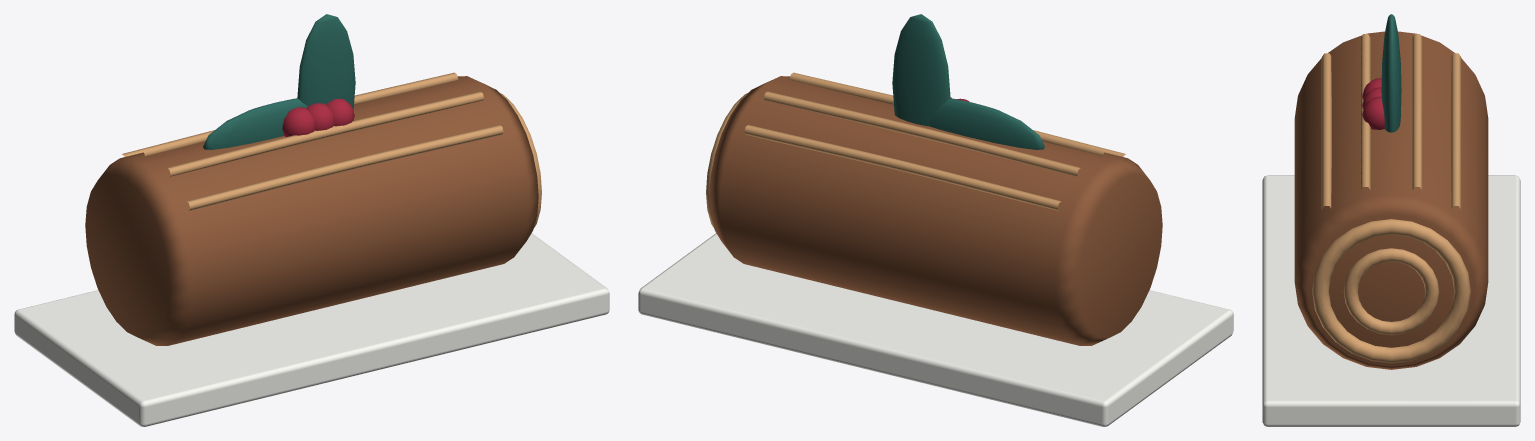
File: christmas-storybook-chocolate-yule-log-f4fbbd81__18765.glb
3 views of the same model, side by side, from view 1: azimuth 30°, elevation 25°; view 2: azimuth 150°, elevation 25°; view 3: azimuth 270°, elevation 25° (orthographic).
Parts seen in each view (by area): view 1: oak, cream, biscuit, pine, berry; view 2: oak, cream, biscuit, pine; view 3: oak, cream, biscuit, pine, berry.
Part boxes in pixels (x1,y1,x2,y2): oak: (85,76,538,345); cream: (14,233,609,426); biscuit: (122,72,541,228); pine: (203,14,355,149); berry: (282,98,354,137); oak: (709,76,1162,345); cream: (638,233,1233,426); biscuit: (706,72,1125,228); pine: (892,14,1044,149); oak: (1294,31,1488,369); cream: (1262,175,1520,426); biscuit: (1312,34,1470,363); pine: (1381,14,1401,132); berry: (1362,78,1384,129).
Size of the model in its own units: 0.84 by 0.5255 by 0.3999.
